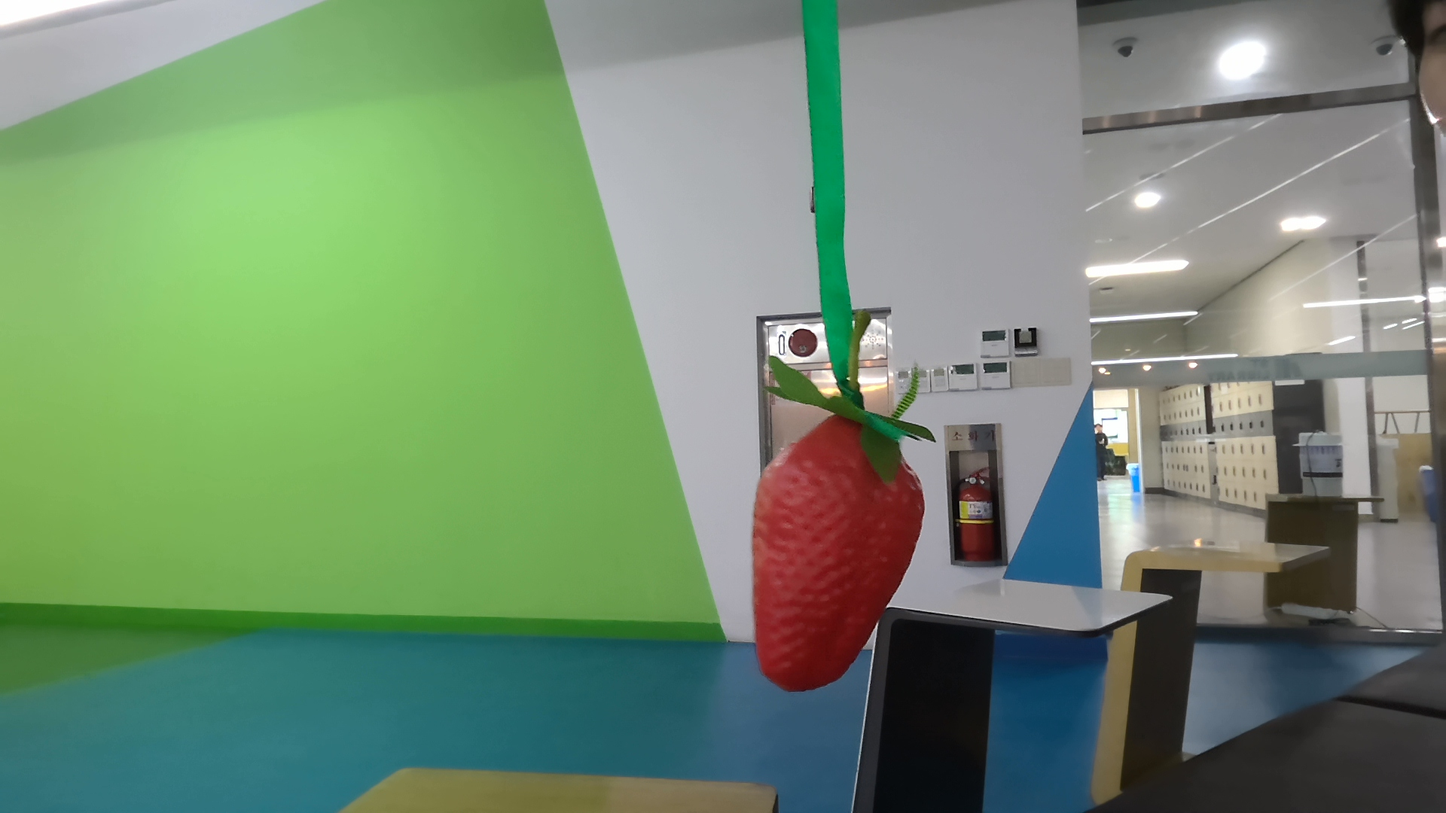strawberry: (740, 395, 928, 696)
